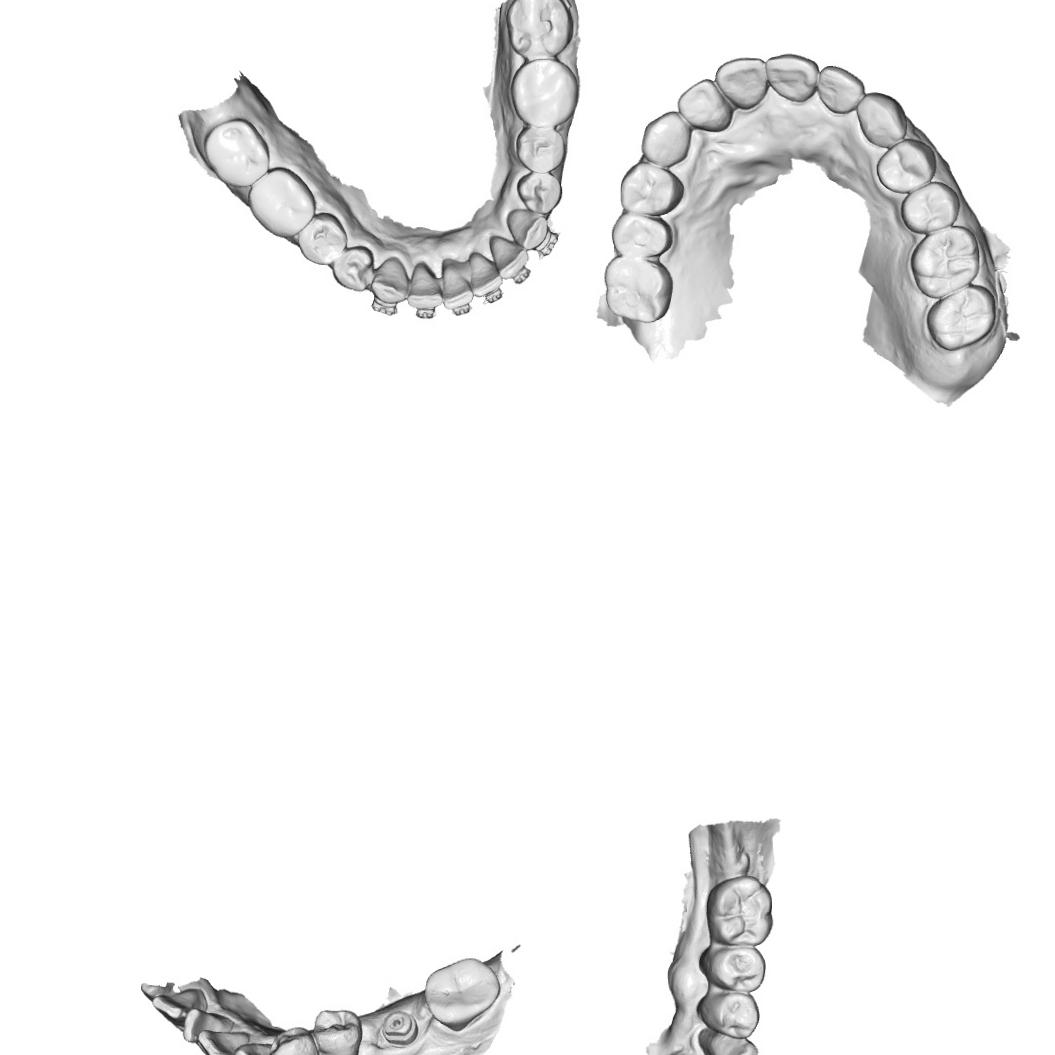canine: (637, 110, 694, 170), (854, 90, 910, 150), (504, 206, 551, 252), (369, 255, 411, 306), (707, 1031, 760, 1055), (230, 1040, 277, 1055)
implant_minus: (380, 1007, 420, 1046)
incisor: (713, 54, 770, 112), (675, 77, 733, 133), (765, 49, 819, 104), (814, 62, 866, 115), (182, 1006, 238, 1046), (486, 232, 530, 280), (404, 259, 444, 311), (465, 249, 504, 300), (436, 260, 475, 311), (150, 986, 200, 1021), (195, 1027, 252, 1055)
molar: (422, 955, 503, 1032), (908, 224, 983, 300), (246, 164, 318, 241), (201, 114, 272, 190), (704, 871, 774, 948), (924, 284, 1000, 352), (509, 58, 580, 128), (603, 254, 674, 324), (503, 0, 574, 60)
premolar: (618, 159, 686, 218), (874, 137, 937, 196), (697, 942, 768, 994), (694, 990, 762, 1040), (899, 180, 960, 234), (294, 210, 348, 268), (609, 210, 674, 258), (309, 1007, 365, 1055), (514, 125, 567, 172), (330, 244, 376, 294), (514, 170, 563, 216), (266, 1025, 321, 1055)
